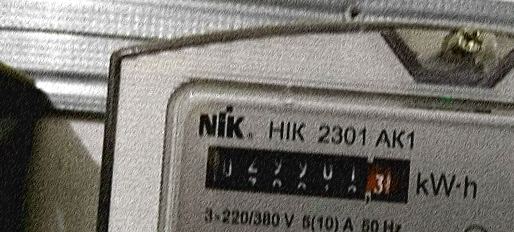0: (319, 155, 336, 181), (218, 154, 235, 177)
1: (346, 157, 360, 182)
2: (245, 151, 261, 174)
3: (370, 171, 387, 195)
9: (295, 155, 309, 179), (271, 153, 284, 174)
screen: (196, 135, 421, 213)
